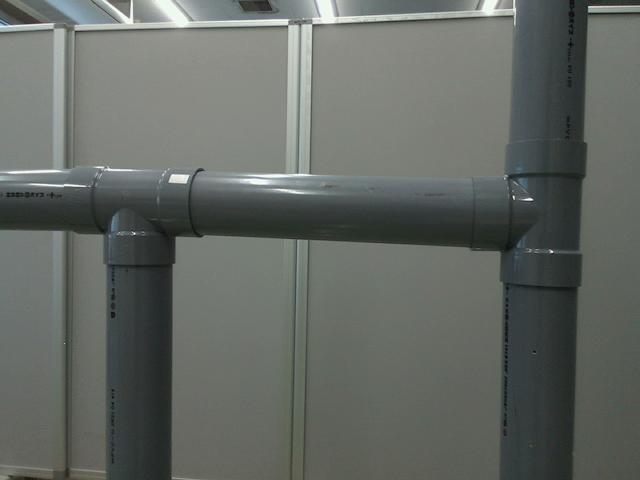junction: (463, 142, 589, 288), (59, 167, 206, 264)
